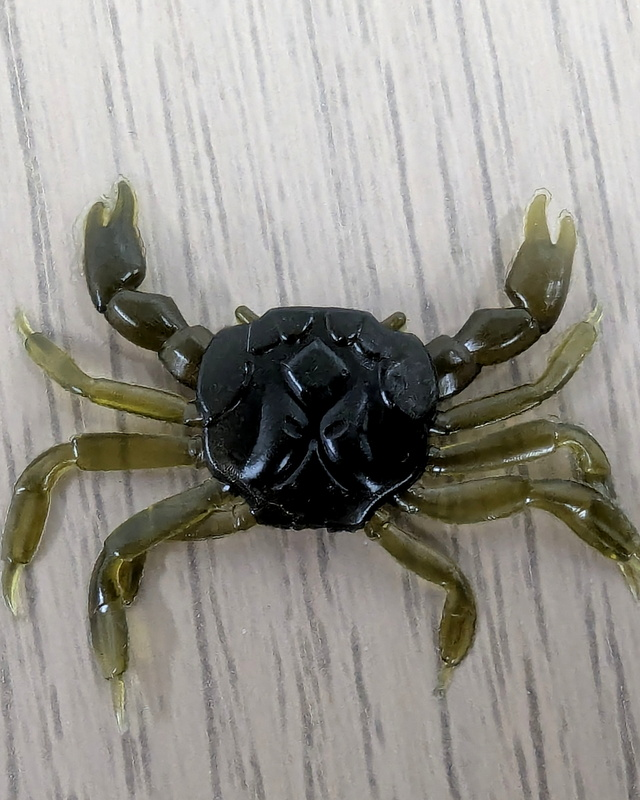crab2: (1, 174, 640, 732)
